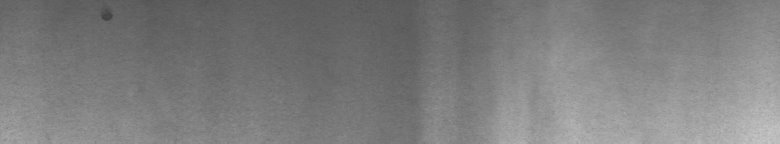fi: (101, 4, 116, 28)
